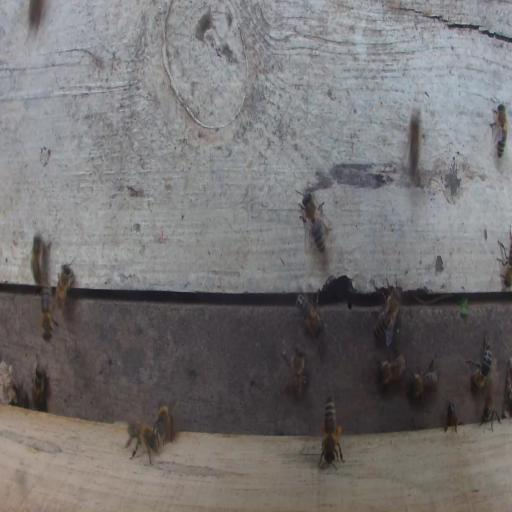bee: (317, 394, 344, 466), (300, 188, 328, 256), (372, 282, 402, 342), (122, 419, 160, 464), (294, 286, 325, 340), (465, 334, 493, 390), (281, 346, 307, 401), (373, 347, 407, 389), (487, 101, 511, 159), (406, 368, 441, 405), (153, 396, 177, 447), (30, 231, 52, 283), (40, 281, 59, 341), (408, 109, 425, 174), (495, 223, 511, 289), (56, 262, 76, 309), (31, 363, 48, 414), (480, 395, 502, 432), (444, 402, 459, 433)
